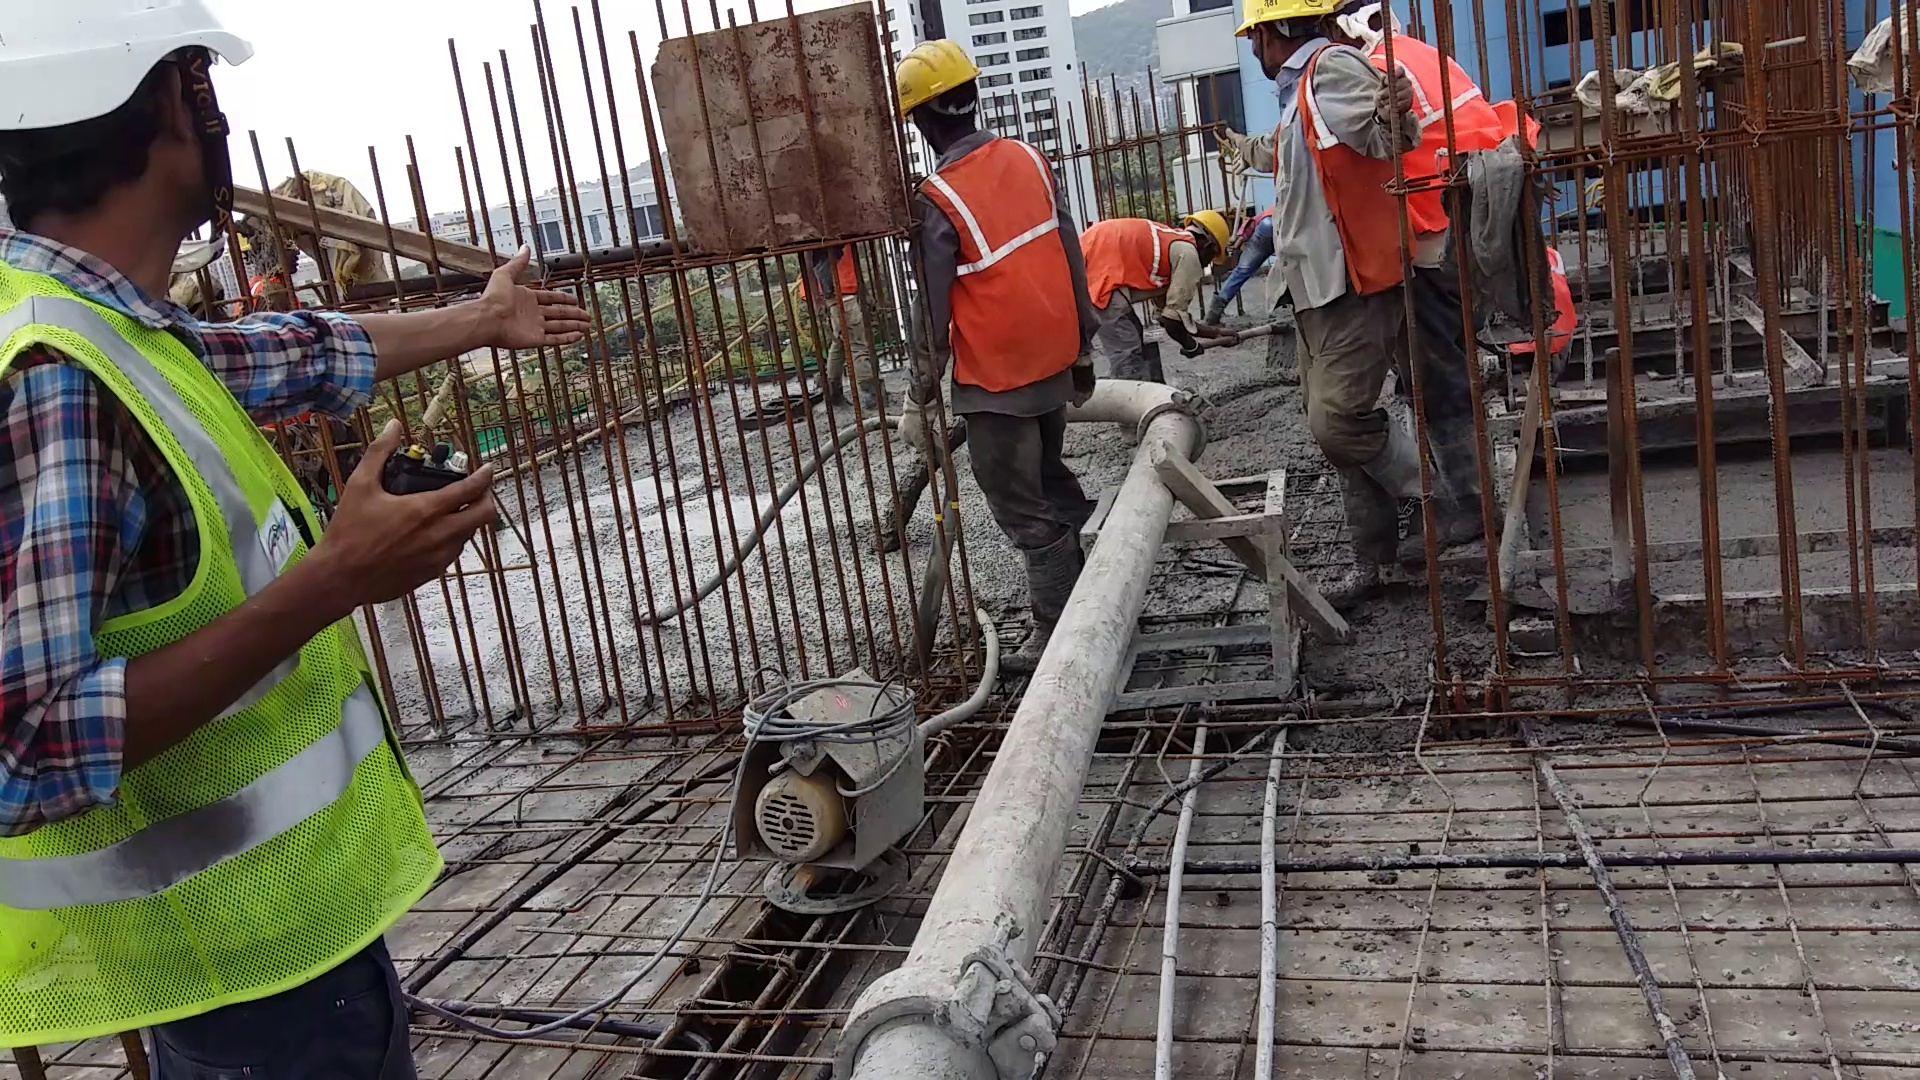SAFE: (1, 4, 314, 1000), (898, 37, 1077, 396), (1244, 5, 1416, 309)
